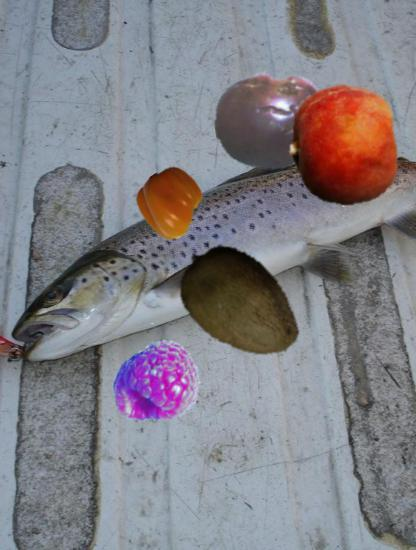Papaya: (171, 235, 308, 372)
Passion: (214, 62, 331, 179)
Peach: (281, 84, 404, 207)
Pepper: (138, 169, 206, 237)
Raspberry: (110, 339, 204, 433)
